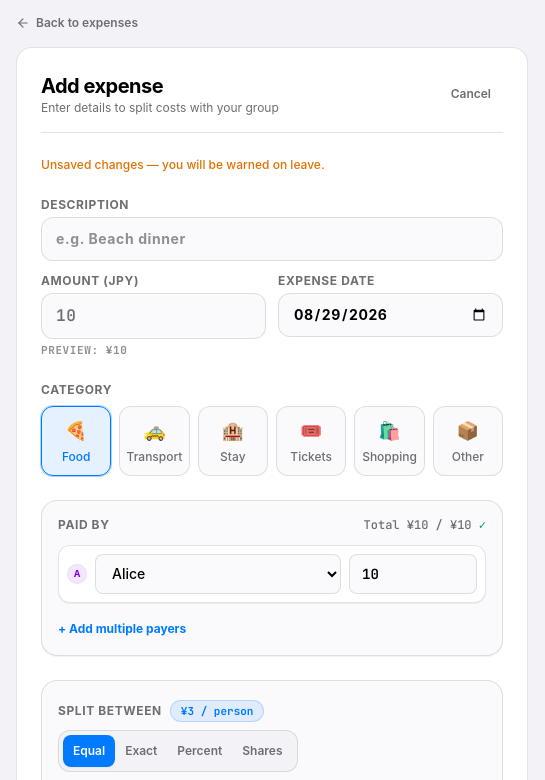
Test case: Milestone 3 Challenger Empirical Stress Verifier › Task 2: Participant Split Selection, Batch Actions, & Form Validation Stress › handles 0-decimal JPY amount input and equal allocation without decimal issues
Replace the text in the field labelled "Amount (JPY) Preview: ¥10" with "12000". click: [154, 316]
box: [41,293,266,339]
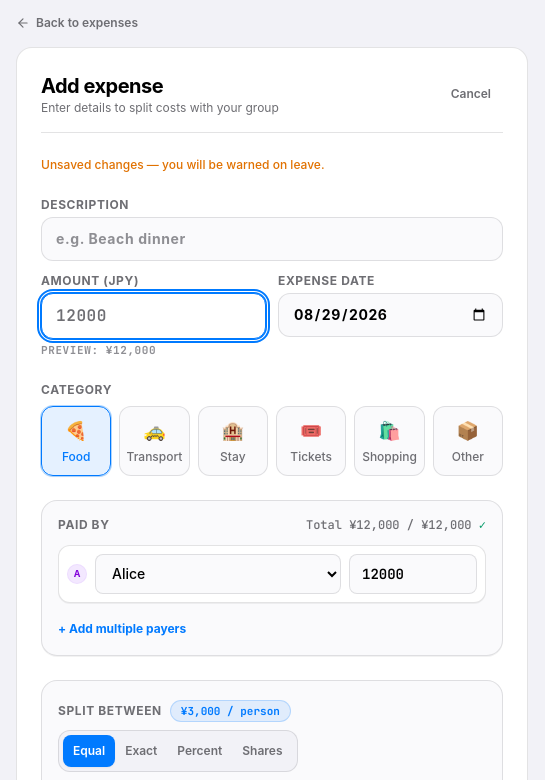
Expected: the text "Total ¥12,000 / ¥12,000 ✓" is shown, [306,517,486,533]
Expected: the text "¥3,000 / person" is shown, [170,700,291,722]
